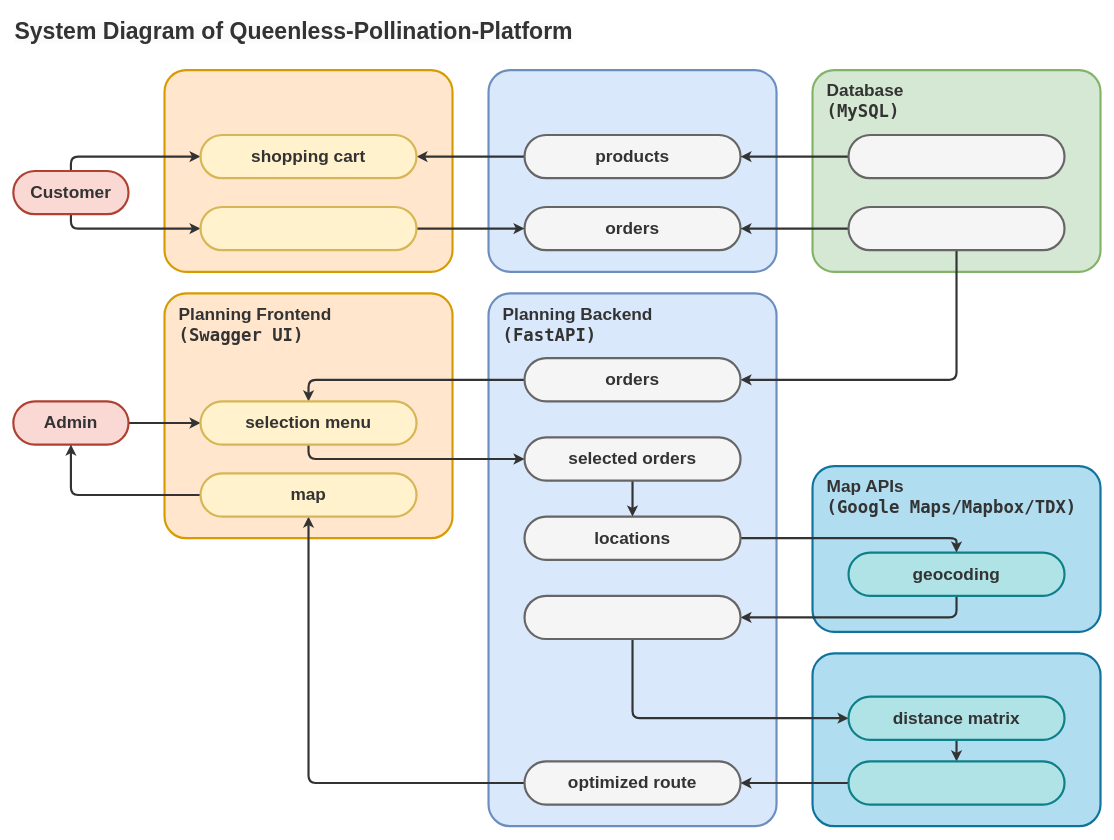
Some shapes in this 1114 by 840 pixel diagram are drawn without their labels. Each missing label, with the box of its shape:
coordinates: (523, 594, 741, 640)
optimizaion algorithm: (847, 760, 1065, 805)
order form: (199, 206, 417, 251)
orders table: (847, 206, 1065, 251)
products table: (847, 134, 1065, 179)
Route Optimizaion: (811, 652, 1101, 827)
Shopping Backend (Express.js ): (487, 69, 777, 273)
Shopping Frontend (Next.js): (163, 69, 453, 273)
